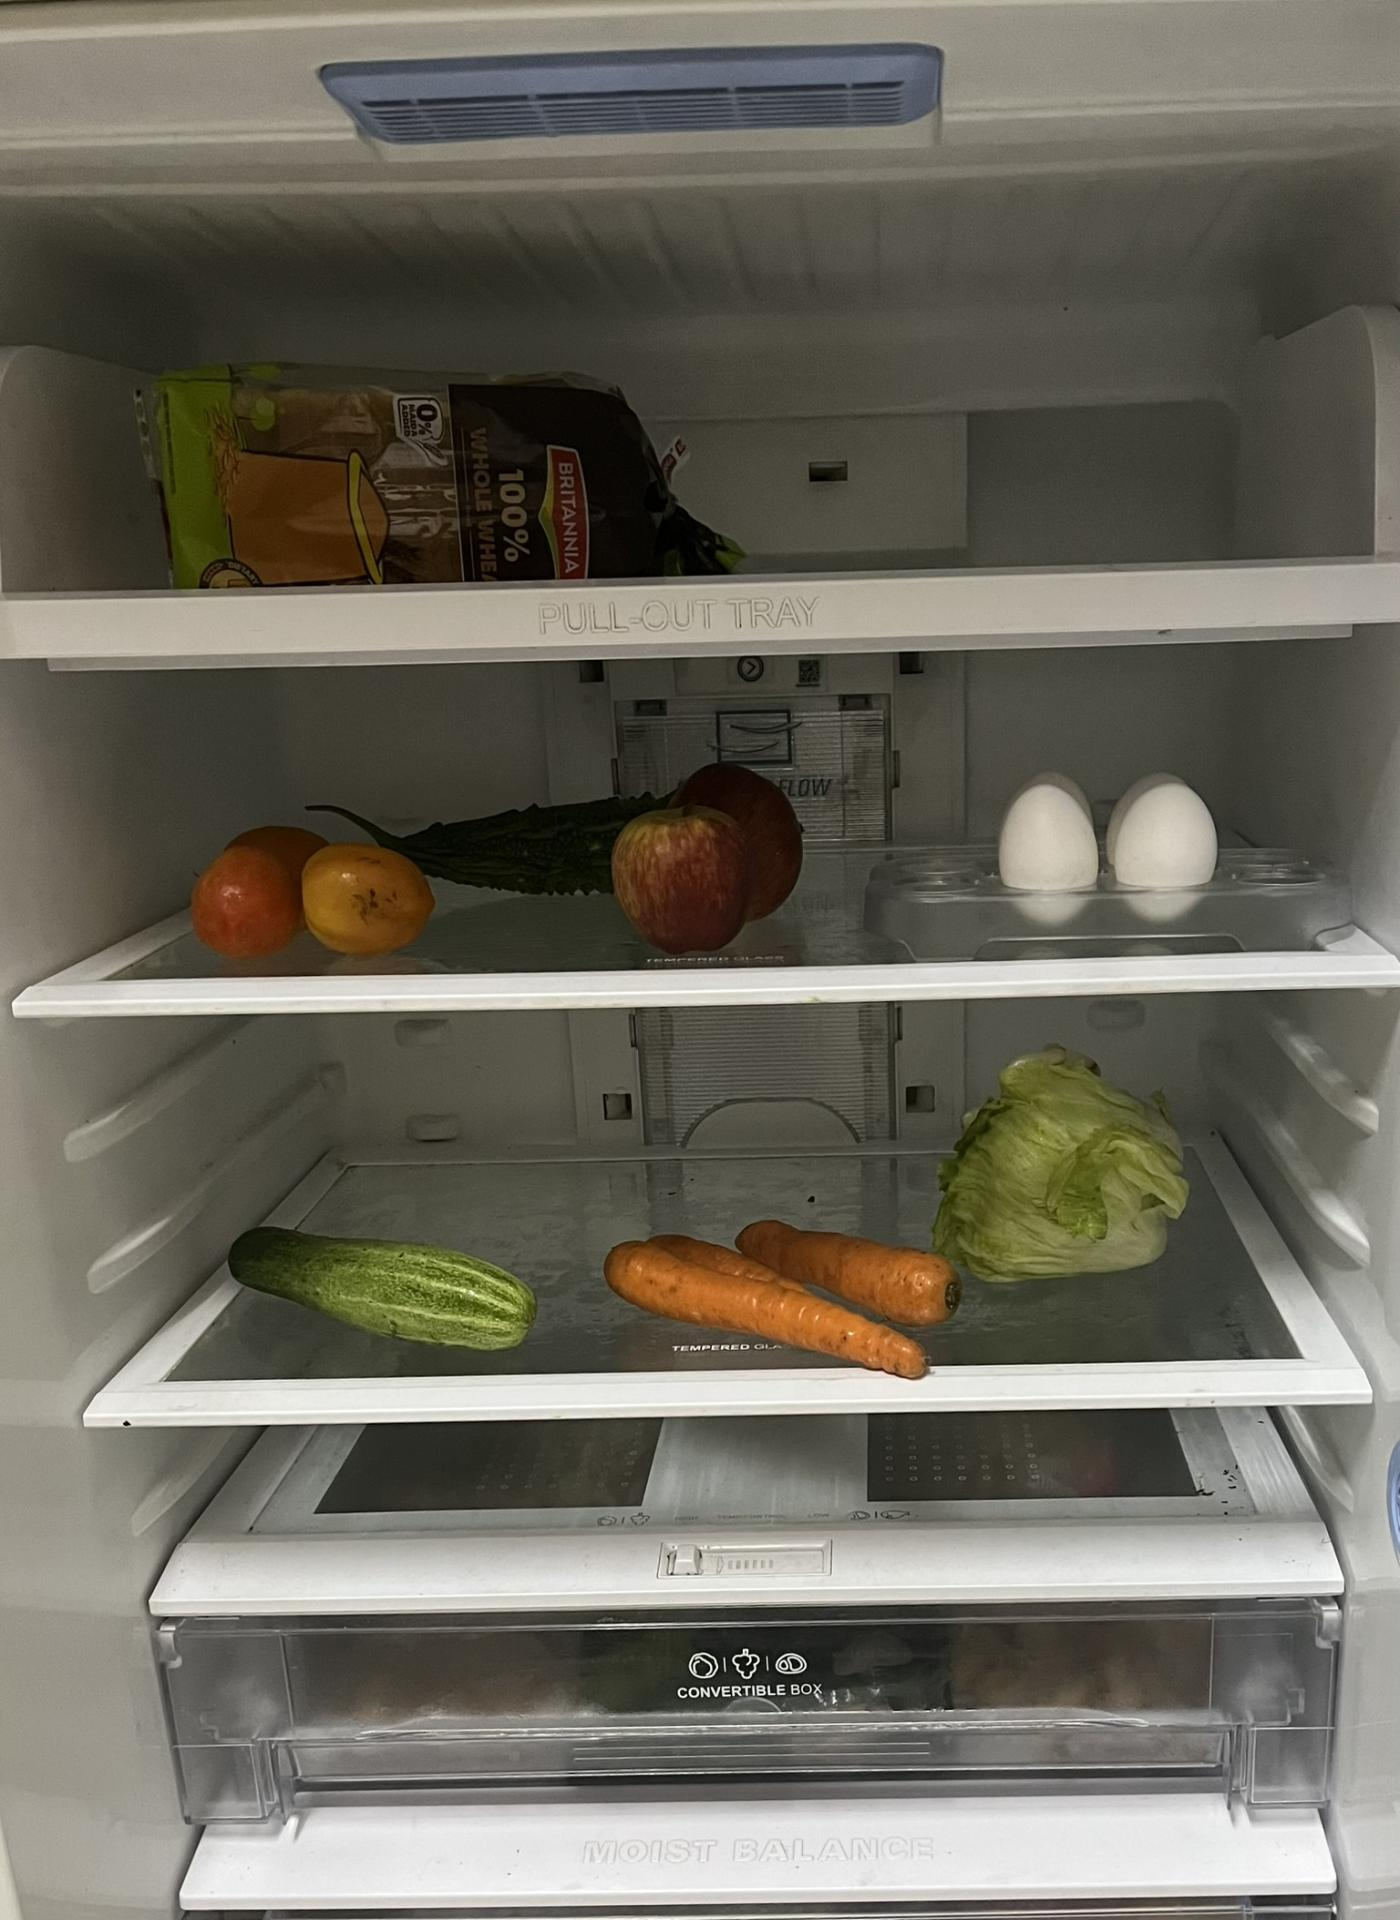apple: (622, 784, 799, 957)
bread: (148, 362, 745, 572)
carrots: (602, 1201, 971, 1370)
cucumber: (221, 1230, 526, 1354)
egg: (1009, 760, 1235, 914)
lettuce: (950, 1038, 1200, 1288)
tomato: (183, 803, 429, 960)
